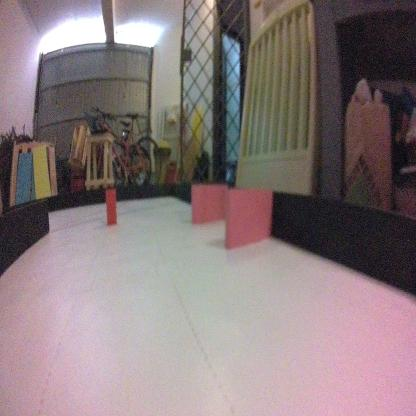magenta: (224, 185, 271, 251), (190, 180, 226, 226)
red: (104, 187, 119, 232)
